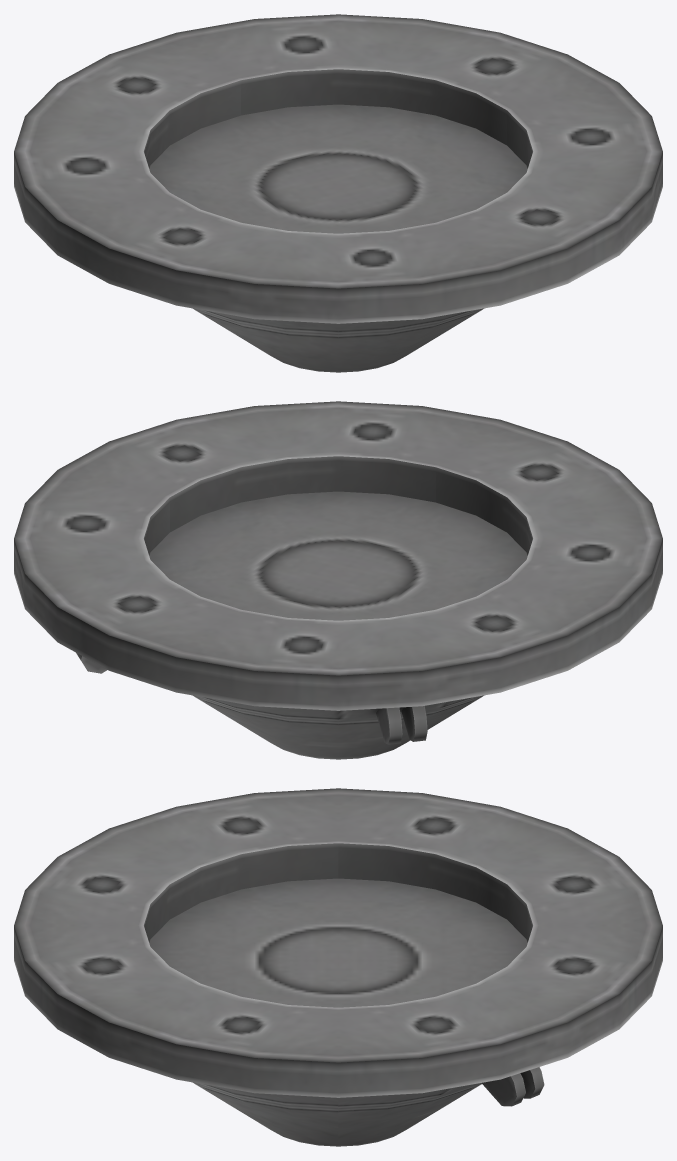
3 views of the same model, one above another, from view 1: azimuth 30°, elevation 25°; view 2: azimuth 150°, elevation 25°; view 3: azimuth 270°, elevation 25° (orthographic).
Parts seen in each view (by area): view 1: base; view 2: base; view 3: base.
Part boxes in pixels (x1,y1,x2,y2): base: (14, 14, 662, 372); base: (14, 401, 662, 759); base: (14, 788, 662, 1146).
Size of the model in its own units: 0.625 by 0.2 by 0.625.
Materials: 1 (1 with a texture image).
